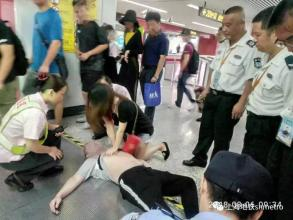10+: (1, 1, 293, 220)
down: (46, 141, 202, 220)
